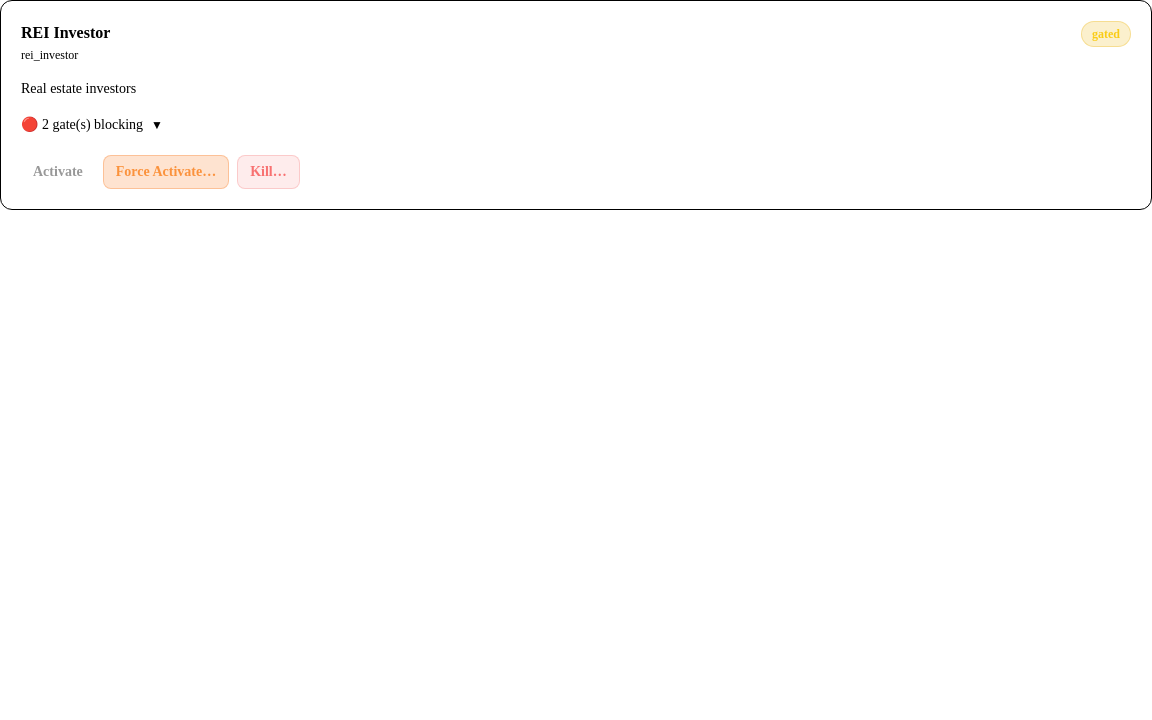
Test: IcpChannelCard — force modal flow › Confirm button enabled when reason has ≥10 chars
Click the button with test id "btn-force-activate" at (166, 172), box left=103, top=155, right=229, bottom=189
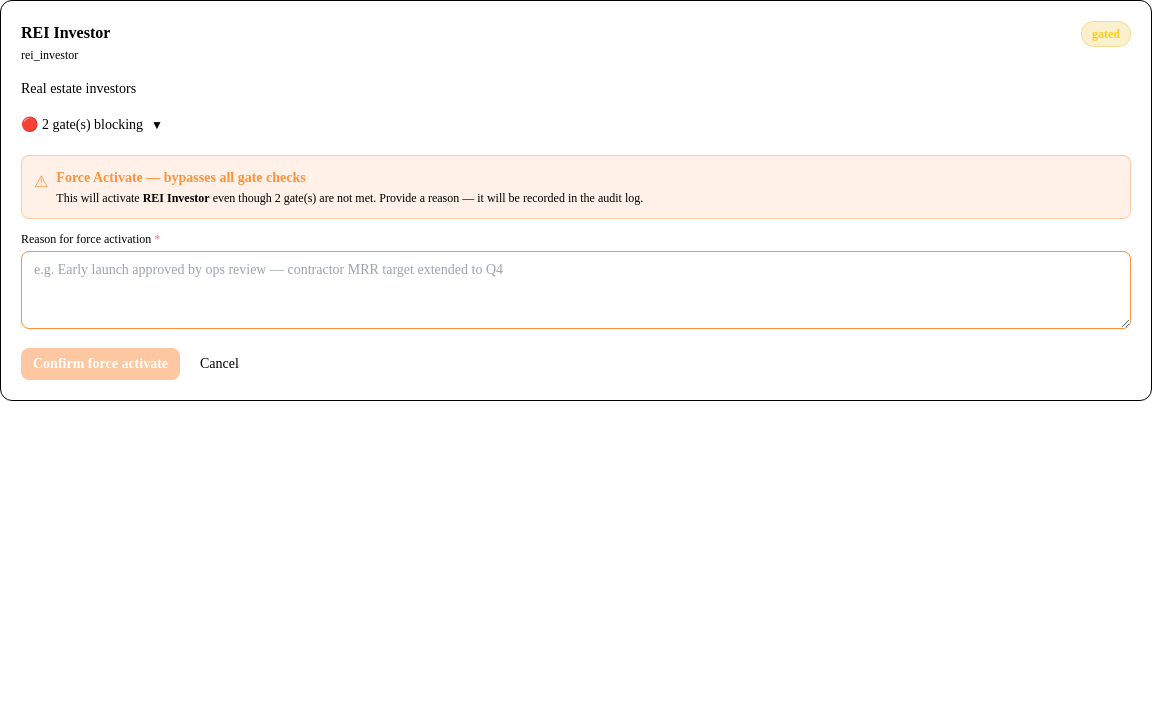
Type "Ops approved this activation for Q4 launch." into the text box with test id "force-reason-input" at (576, 290), box left=21, top=251, right=1131, bottom=329
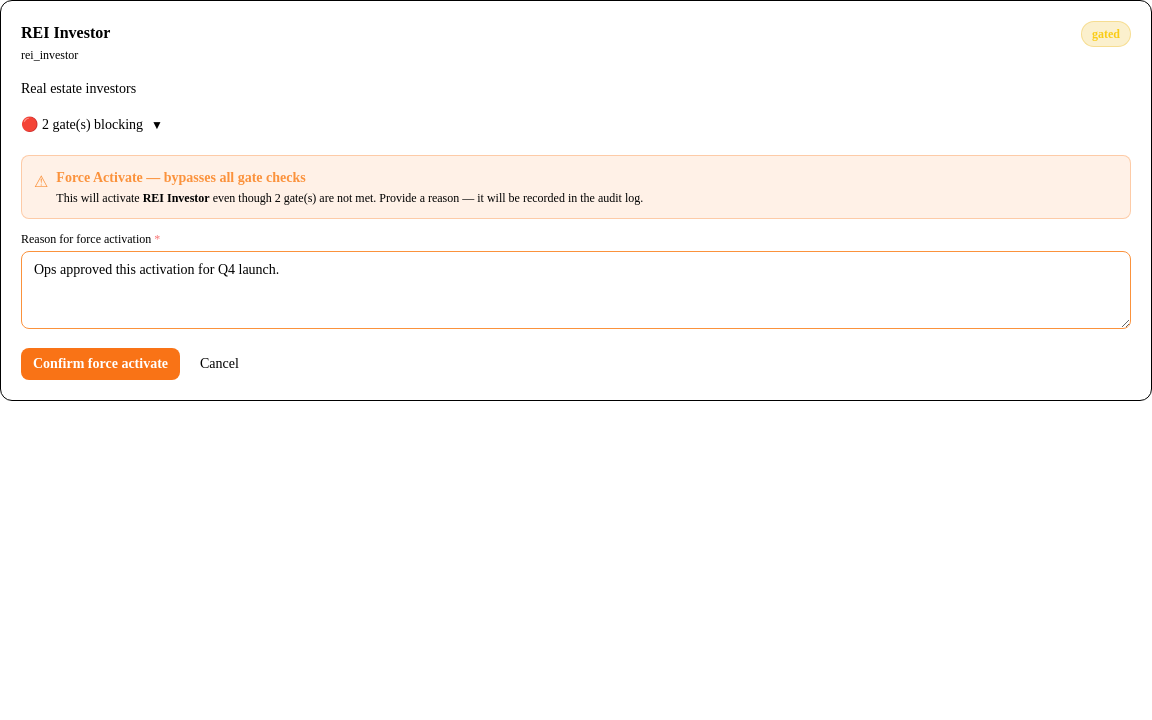
Result: the button with test id "btn-confirm-force" is enabled at left=21, top=348, right=180, bottom=380
